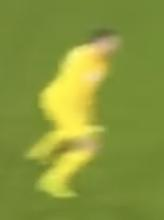goalkeeper: (19, 19, 135, 204)
